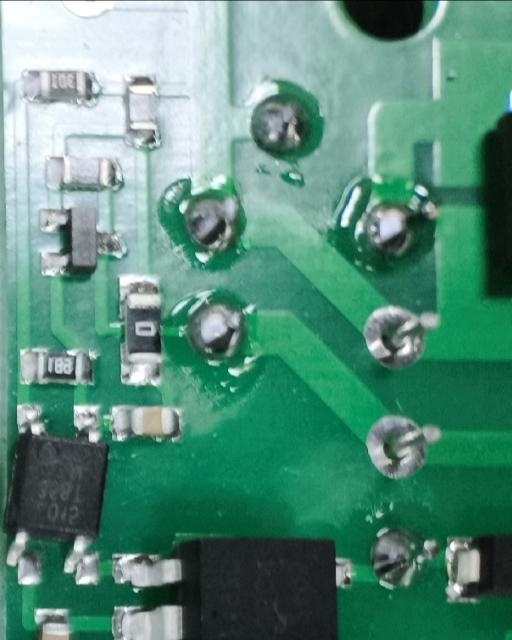chip-capacitor: (108, 403, 185, 442)
chip-resistor: (116, 271, 161, 387), (43, 155, 128, 193), (15, 347, 99, 385), (18, 68, 100, 104), (123, 72, 161, 148)
ic: (2, 397, 104, 588)
transistor: (37, 205, 124, 278)
